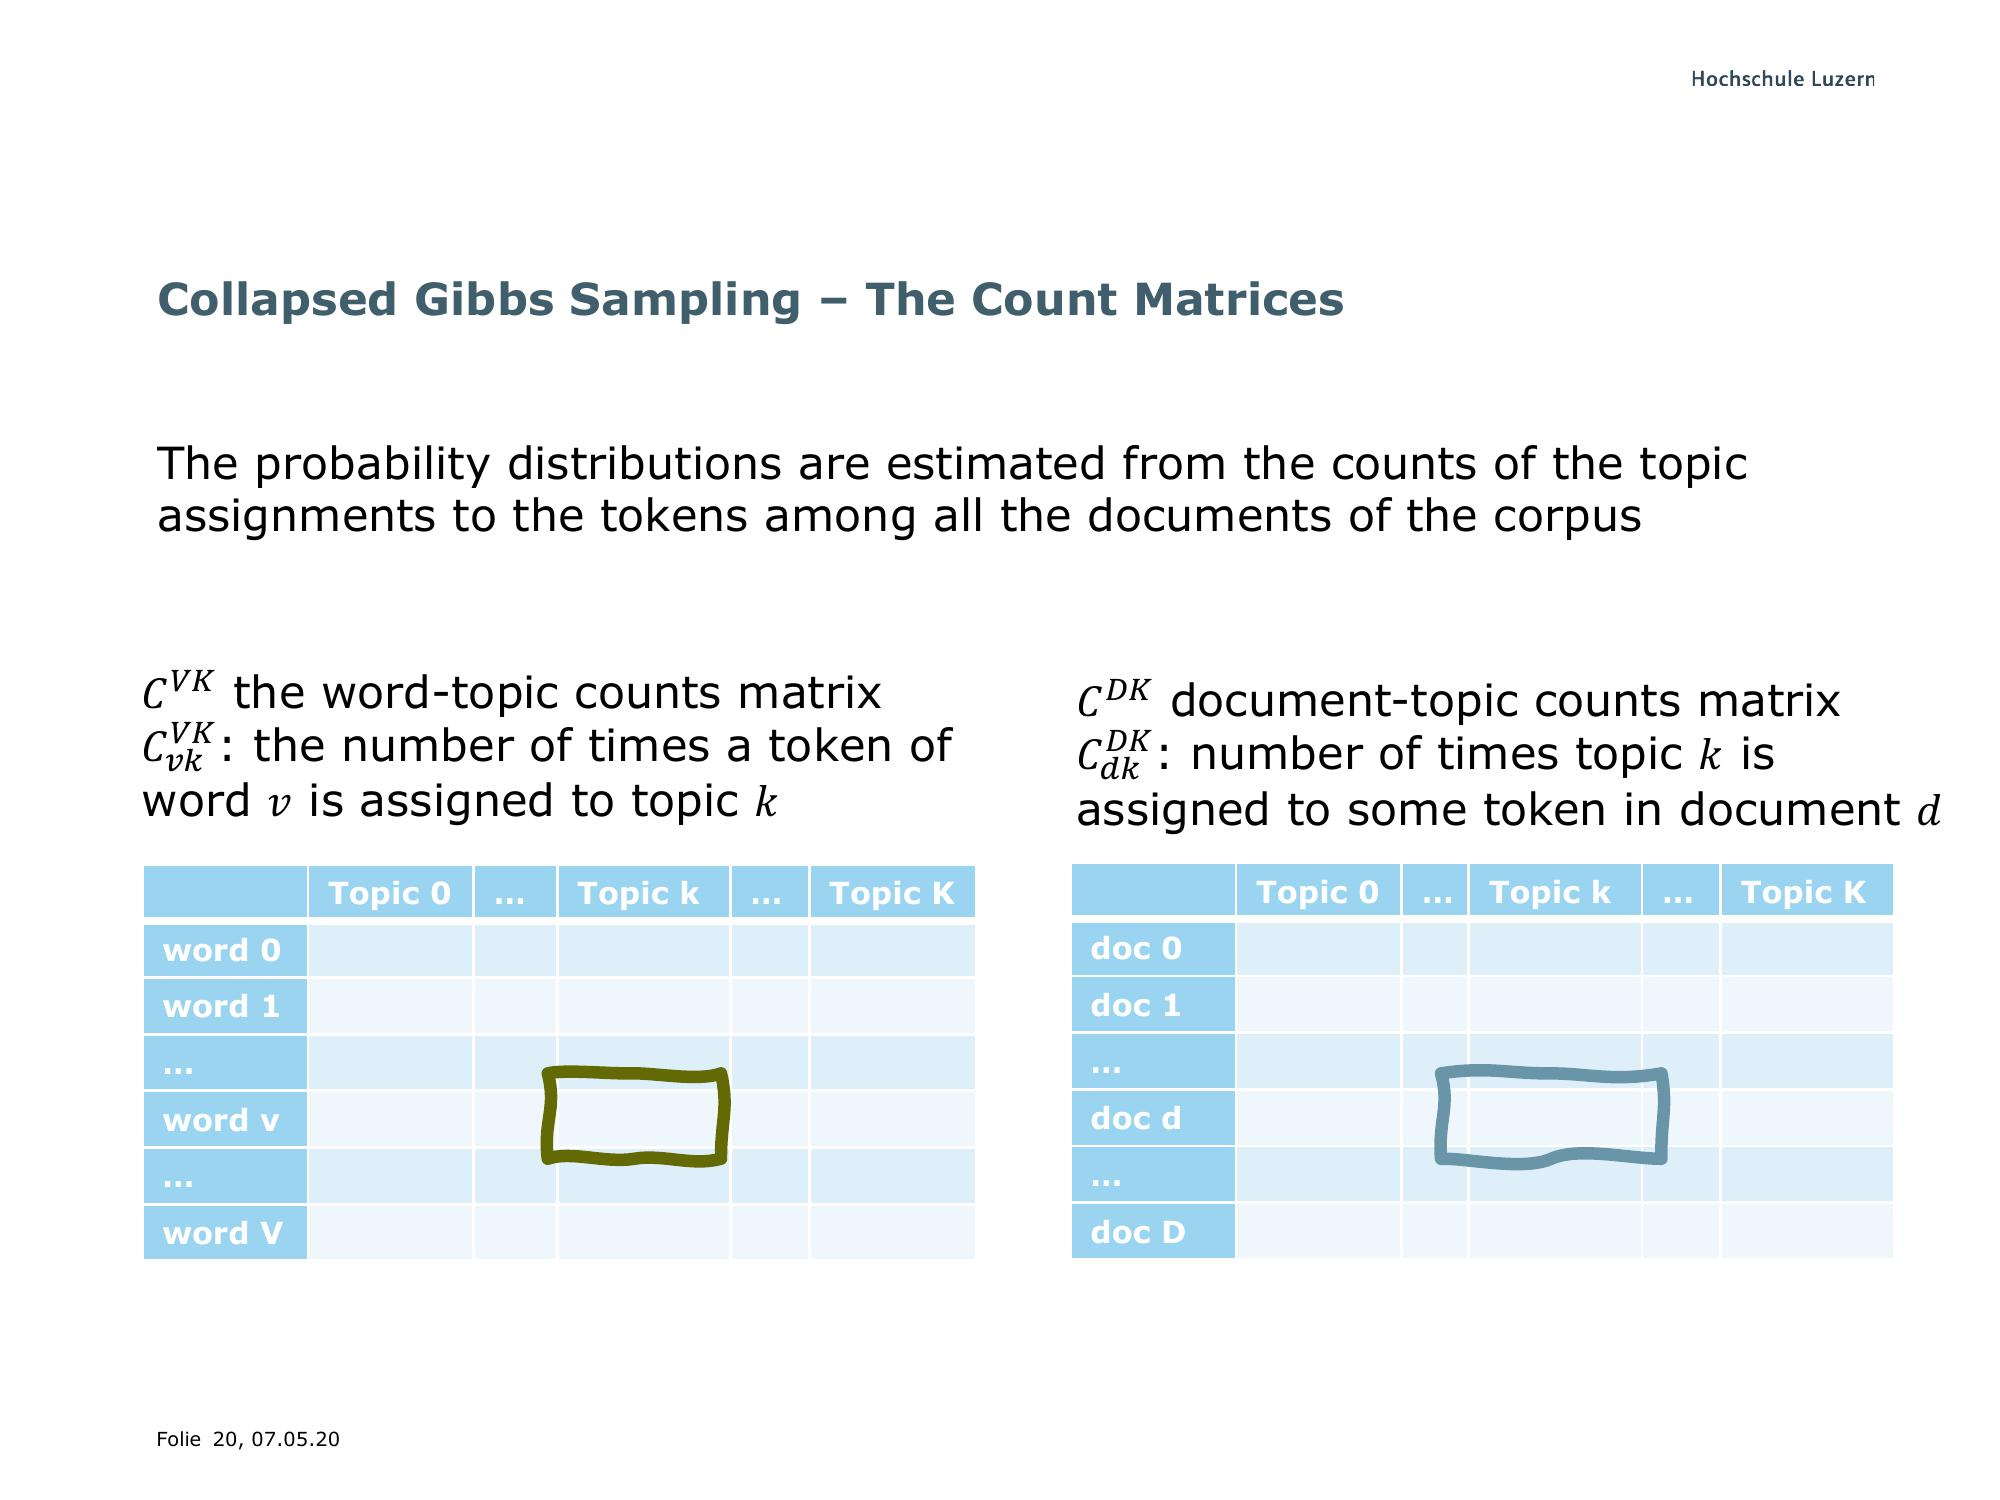Title: (142, 230, 1367, 339)
